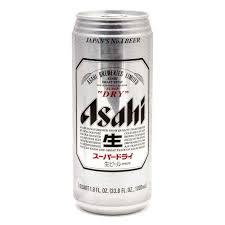beer: (71, 12, 154, 215)
